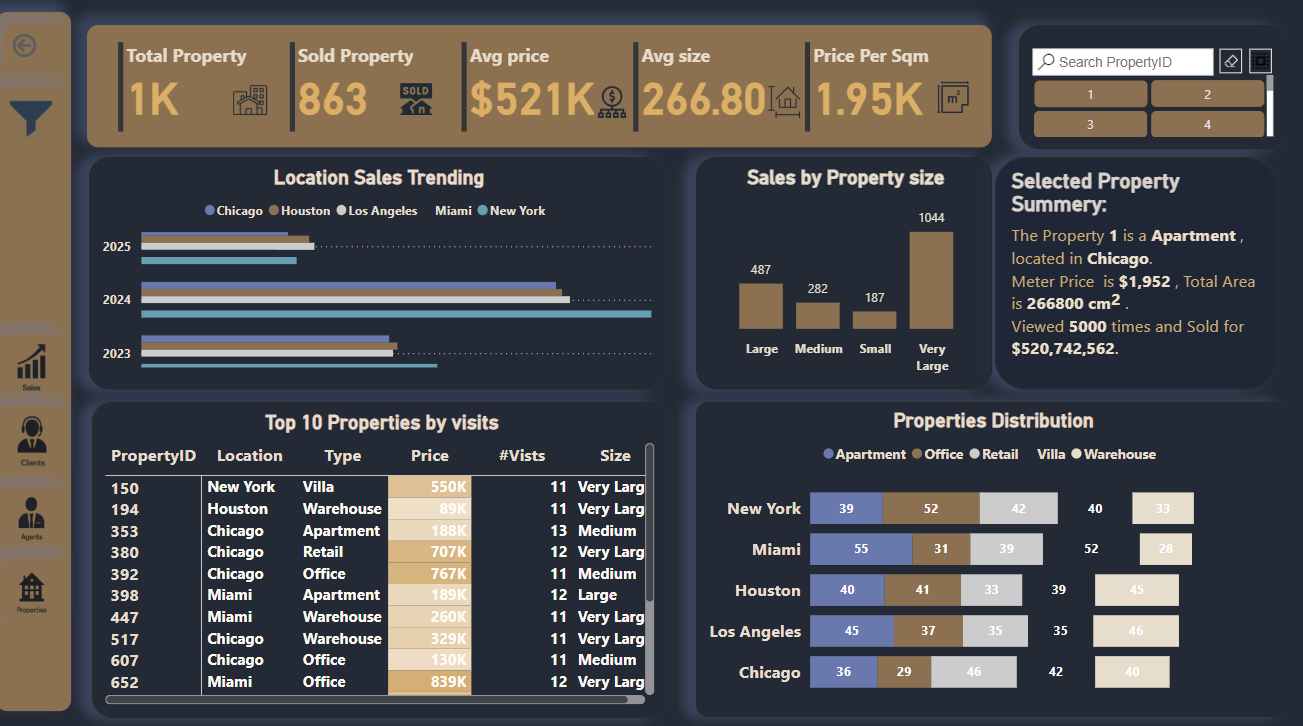

Layout of this report page (visuals, bound fields, positions):
{"tool":"powerbi","page":{"name":"Properties","canvas":[1280,720],"ordinal":4},"visuals":[{"type":"barChart","title":"Properties Distribution","fields":{"Category":["Properties.Location"],"Y":["Measures Tabel.Total Property"],"Series":["Properties.PropertyType"]},"box":[682.5,399,575,306.3],"z":0},{"type":"actionButton","title":"back","box":[8.9,15.4,62.1,41.7],"z":1000,"group":"g1"},{"type":"shape","box":[1.5,19.5,73.1,680.5],"z":1000,"group":"g2"},{"type":"pivotTable","title":"Top 10 Properties by visits","fields":{"Rows":["Properties.PropertyID"],"Values":["Min(Properties.Location)","Min(Properties.PropertyType)","Sum(Properties.PriceUSD)","Measures Tabel.Total Vists","Min(Properties.Size_Category_Logical)"]},"box":[95.7,398.6,560,307.1],"z":1000},{"type":"actionButton","title":"back","box":[9,31.6,62.1,41.7],"z":2000,"group":"g2"},{"type":"Slicer1448559807355","fields":{"Category":["Properties.PropertyID"]},"box":[997.4,32.3,260.4,120.9],"z":2000},{"type":"image","title":"agents","box":[3.1,465.6,66.5,62.1],"z":2000,"group":"g1"},{"type":"image","title":"agents","box":[3.2,481.7,66.5,62.1],"z":2500,"group":"g2"},{"type":"image","title":"Sales","box":[3.2,333.1,66.5,65.4],"z":2750,"group":"g2"},{"type":"image","title":"filter","box":[1,92.6,69.7,62],"z":3000,"group":"g2"},{"type":"textbox","title":"Selected Property Summery:","box":[973.6,160,274,226.4],"z":3000},{"type":"image","title":"Sales","box":[3.1,317,66.5,65.4],"z":3000,"group":"g1"},{"type":"image","title":"property","box":[5.4,550.4,66.5,64.3],"z":3500,"group":"g2"},{"type":"clusteredBarChart","title":"Location Sales Trending","fields":{"Category":["Rolling Calender.Year"],"Y":["Sum(Sales.SalePrice)"],"Series":["Properties.Location"]},"box":[92.9,160,560,225.7],"z":4000},{"type":"image","title":"Clients","box":[1.9,403.1,69.8,67.6],"z":4000,"group":"g2"},{"type":"image","title":"property","box":[5.4,534.3,66.5,64.3],"z":4000,"group":"g1"},{"type":"shape","box":[90.2,32.3,880,119.1],"z":5000},{"type":"image","title":"Clients","box":[1.8,386.9,69.8,67.6],"z":5000,"group":"g1"},{"type":"image","title":"filter","box":[2.9,67.3,63,55],"z":6000,"group":"g1"},{"type":"columnChart","title":"Sales  by Property size","fields":{"Category":["Properties.Size_Category_Logical"],"Y":["CountNonNull(Sales.SaleID)"]},"box":[682.6,160,287.7,226.4],"z":6000},{"type":"cardVisual","fields":{"Data":["Measures Tabel.Total Property","Measures Tabel.No of Sold Property","Measures Tabel.avg Property price","Measures Tabel.Avg property size","Measures Tabel.Price Per Sqm"]},"box":[115.7,44.3,839.1,97],"z":7000},{"type":"group","id":"g1","title":"panel","box":[1.8,15.4,70.1,583.2],"z":8000},{"type":"image","box":[224.7,83.4,49.4,42.6],"z":10000},{"type":"image","box":[388.1,83.4,44.3,40.9],"z":11000},{"type":"image","box":[578.7,86.8,46,40.9],"z":12000},{"type":"image","box":[747.2,86.8,42.6,40.9],"z":13000},{"type":"image","box":[910.6,81.7,44.3,40.9],"z":14000},{"type":"group","id":"g2","title":"panel","box":[1,19.5,73.7,680.5],"z":15000}]}

Visuals, with their boxes on the page's 1280x720 design canvas (x1, y1, x2, y2). These are canvas units, not pixel positions in the 1303x726 screenshot, which may show the page scaled, cropped or inside an application window:
"Properties Distribution" barChart: [682,399,1258,705]
"back" actionButton: [9,15,71,57]
shape: [2,20,75,700]
"Top 10 Properties by visits" pivotTable: [96,399,656,706]
"back" actionButton: [9,32,71,73]
Slicer1448559807355 - Properties.PropertyID: [997,32,1258,153]
"agents" image: [3,466,70,528]
"agents" image: [3,482,70,544]
"Sales" image: [3,333,70,398]
"filter" image: [1,93,71,155]
"Selected Property Summery:" textbox: [974,160,1248,386]
"Sales" image: [3,317,70,382]
"property" image: [5,550,72,615]
"Location Sales Trending" clusteredBarChart: [93,160,653,386]
"Clients" image: [2,403,72,471]
"property" image: [5,534,72,599]
shape: [90,32,970,151]
"Clients" image: [2,387,72,454]
"filter" image: [3,67,66,122]
"Sales  by Property size" columnChart: [683,160,970,386]
cardVisual - Measures Tabel.Total Property x Measures Tabel.No of Sold Property: [116,44,955,141]
"panel" group: [2,15,72,599]
image: [225,83,274,126]
image: [388,83,432,124]
image: [579,87,625,128]
image: [747,87,790,128]
image: [911,82,955,123]
"panel" group: [1,20,75,700]
